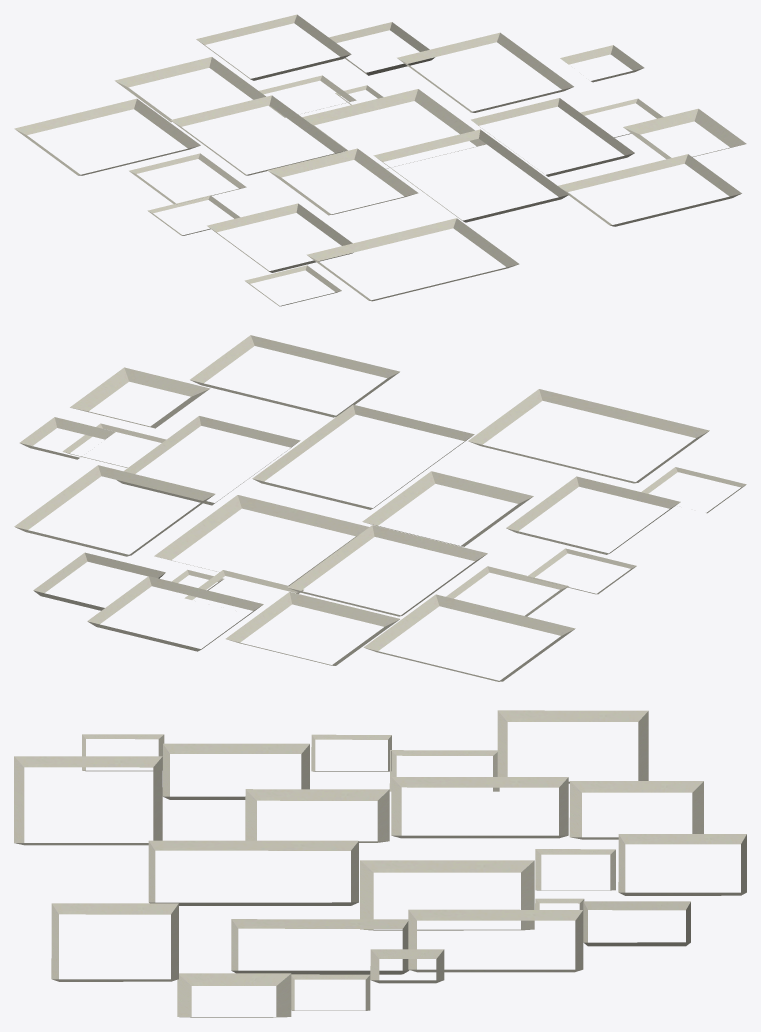
The model's file is nt_2020_shelves_modern_LOD1.obj.
3 renders of one model, top to bottom at view 1: azimuth 30°, elevation 25°; view 2: azimuth 150°, elevation 25°; view 3: azimuth 270°, elevation 25°, orthographic. The views are drawn at different scales.
Visible parts, largest first — view 1: nt_2020_plastic_cream; view 2: nt_2020_plastic_cream; view 3: nt_2020_plastic_cream.
Boxes of the visible parts, left/top/right/bottom form: nt_2020_plastic_cream: left=14, top=14, right=746, bottom=306; nt_2020_plastic_cream: left=14, top=335, right=746, bottom=681; nt_2020_plastic_cream: left=14, top=710, right=746, bottom=1017.
Size of the model in its own units: 173 by 12.53 by 175.
